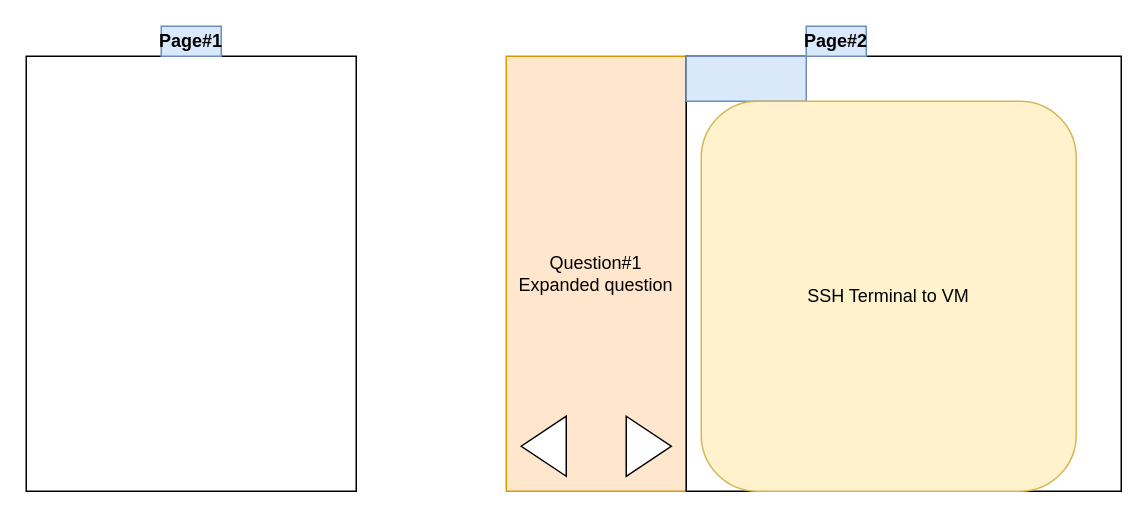
Image size: 1148x518. Some labels were removed from this diagram. Each missing label, with the centre of its shape:
Authentication with Google Github Linked in: the point at 190,273
Timer: the point at 745,78
